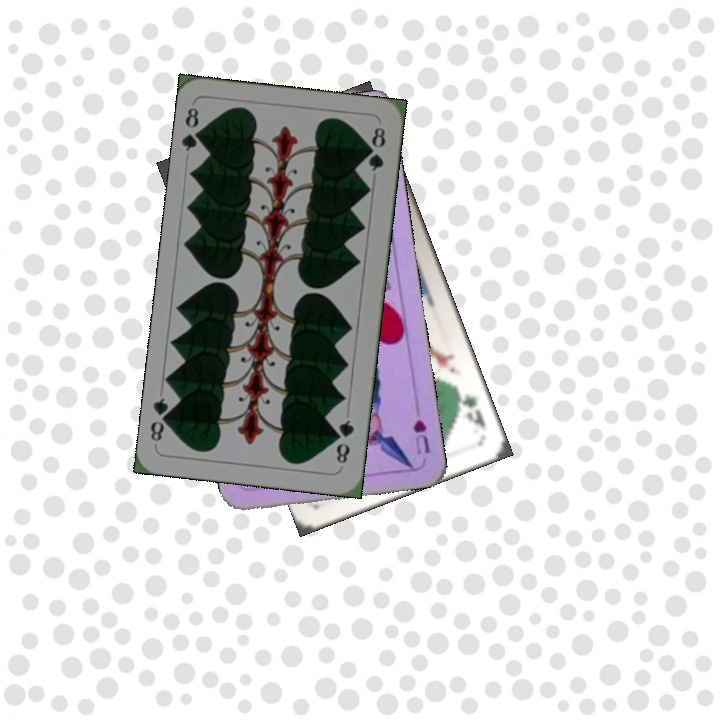G8: (178, 104, 208, 154), (331, 416, 357, 467)
GK: (451, 385, 488, 432)
HU: (409, 415, 433, 457)
